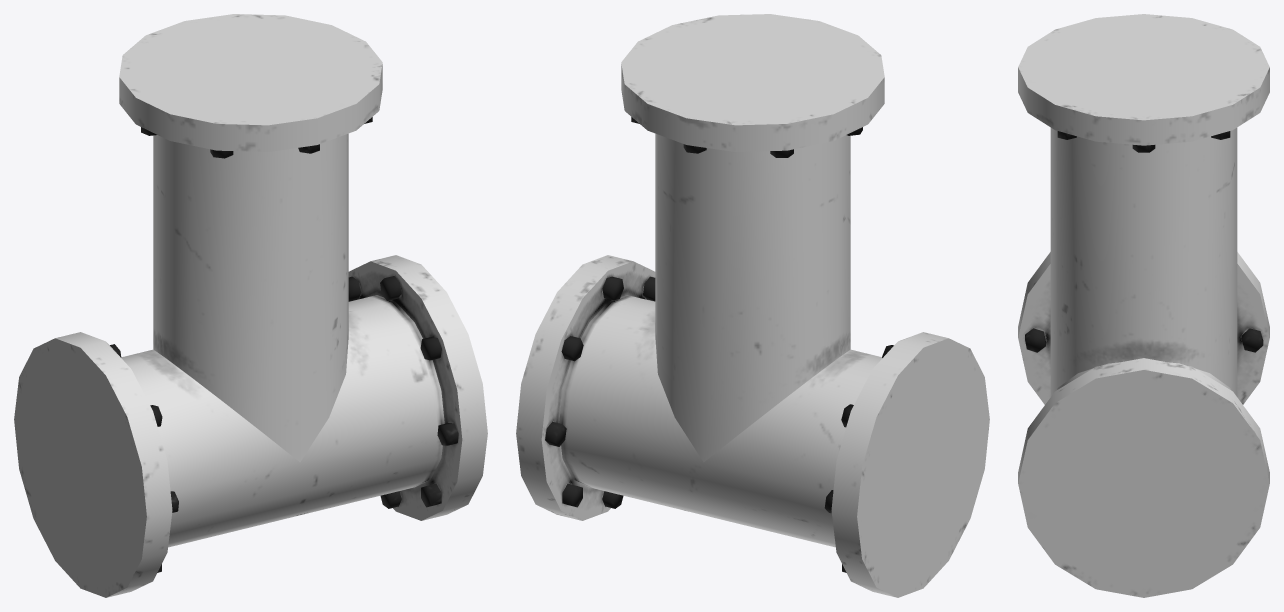
Rendered from Pipe_cross.fbx.
The picture shows the model from 3 angles, left to right: view 1: azimuth 30°, elevation 25°; view 2: azimuth 150°, elevation 25°; view 3: azimuth 270°, elevation 25°; orthographic projection. The views are drawn at different scales.
Parts seen in each view (by area): view 1: Pipe_cross; view 2: Pipe_cross; view 3: Pipe_cross.
Part boxes in pixels (box(x1,y1,x2,y2)): Pipe_cross: box(14, 14, 487, 597); Pipe_cross: box(516, 14, 989, 597); Pipe_cross: box(1018, 14, 1269, 597).
Size of the model in its own units: 20 by 26.75 by 13.5.
